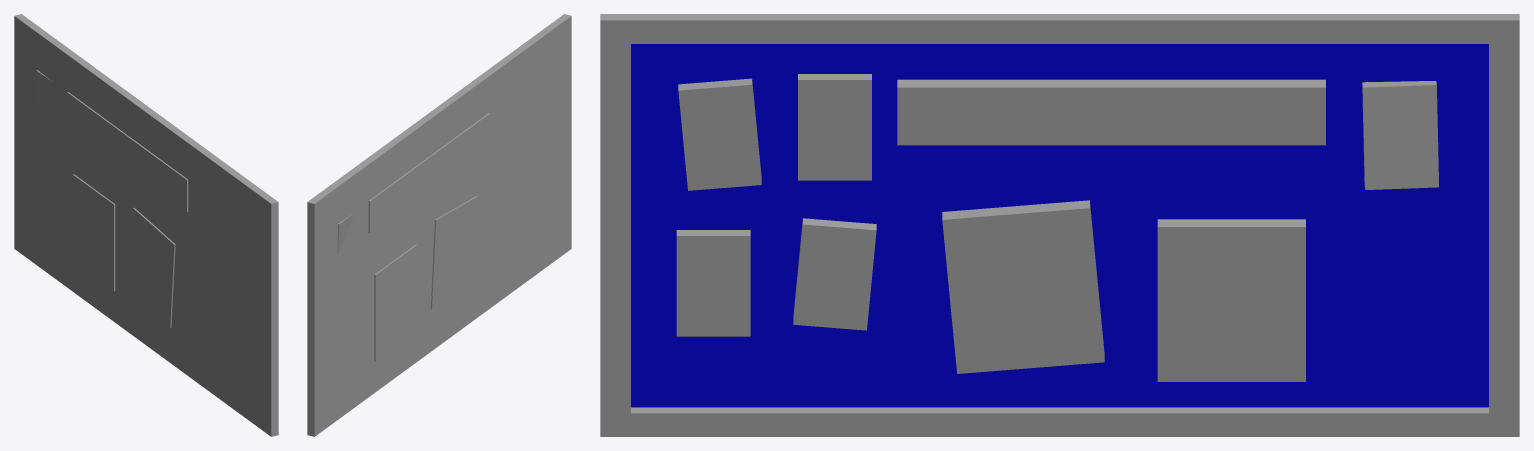
File: bulletin_board.fbx
3 views of the same model, side by side, from view 1: azimuth 30°, elevation 25°; view 2: azimuth 150°, elevation 25°; view 3: azimuth 270°, elevation 25° (orthographic). The views are drawn at different scales.
Parts seen in each view (by area): view 1: bg, papers; view 2: bg, papers; view 3: bg, papers.
Boxes of the visible parts, <box> form: bg: <box>14,14,278,436</box>; papers: <box>36,70,188,327</box>; bg: <box>307,14,571,436</box>; papers: <box>337,113,489,361</box>; bg: <box>600,14,1519,436</box>; papers: <box>676,74,1439,381</box>.
Size of the model in its own units: 7.44 by 150 by 300.
